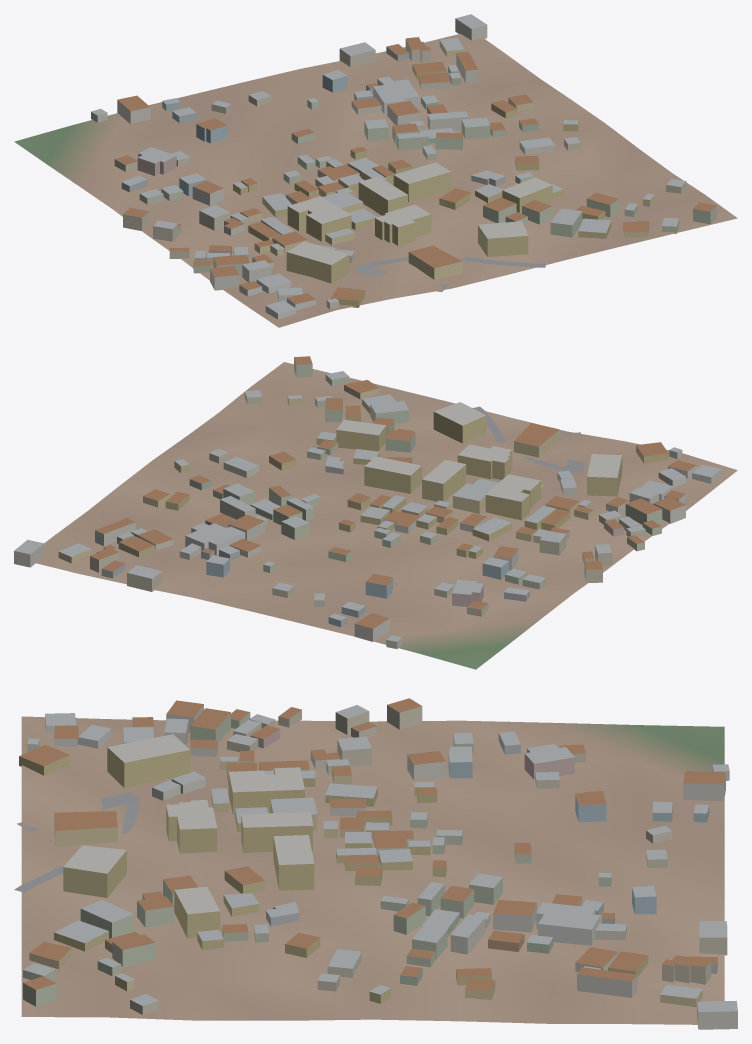
3 renders of one model, top to bottom at view 1: azimuth 30°, elevation 25°; view 2: azimuth 150°, elevation 25°; view 3: azimuth 270°, elevation 25°, orthographic. The views are drawn at different scales.
Parts seen in each view (by area): view 1: Lo; view 2: Lo; view 3: Lo.
Part boxes in pixels (x1,y1,x2,y2): Lo: (14,14,737,327); Lo: (14,356,737,669); Lo: (14,698,737,1029).
Size of the model in its own units: 264 by 15.94 by 264.
